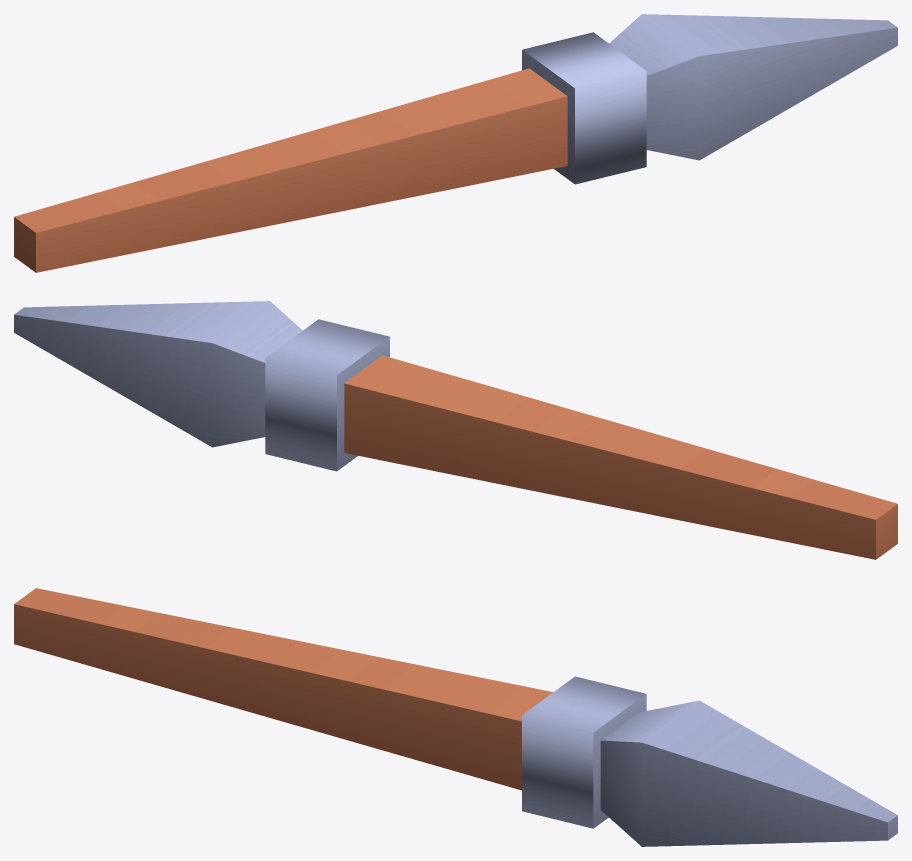
Rendered from siege_balista_arrow.glb.
The picture shows the model from 3 angles, top to bottom: view 1: azimuth 30°, elevation 25°; view 2: azimuth 150°, elevation 25°; view 3: azimuth 330°, elevation 25°; orthographic projection.
Visible parts, largest first — view 1: arrow; view 2: arrow; view 3: arrow.
Boxes of the visible parts, x1,y1,x2,y2 form: arrow: (14, 14, 897, 272); arrow: (14, 301, 897, 559); arrow: (14, 588, 897, 846).
Bounding box in the file's own units: 1.33 × 0.1526 × 0.1526.
1 material, 1 textured.
